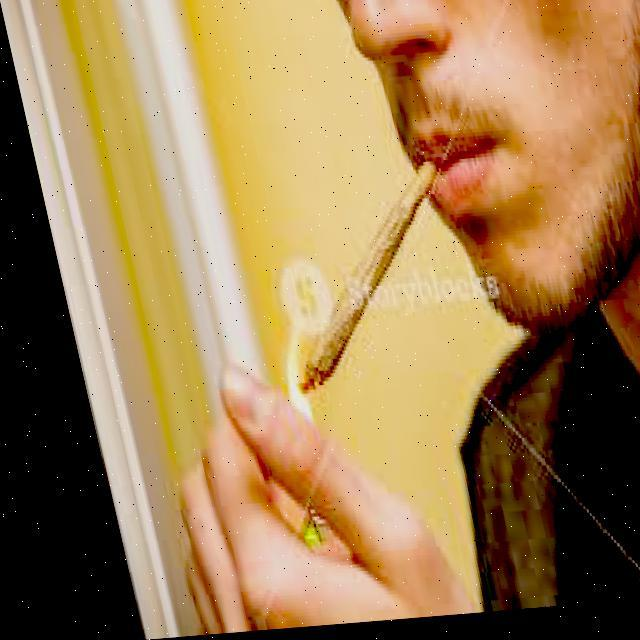Fire: (248, 328, 316, 435)
